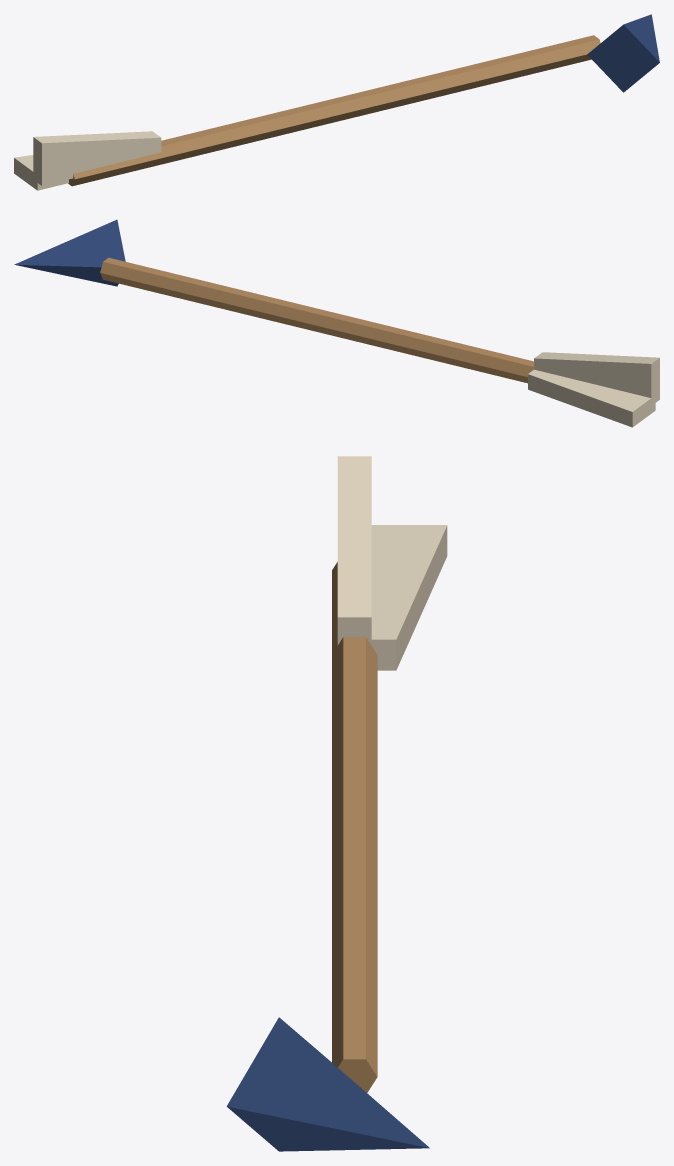
The model's file is MithrilArrowStack3.glb.
3 renders of one model, top to bottom at view 1: azimuth 30°, elevation 25°; view 2: azimuth 150°, elevation 25°; view 3: azimuth 270°, elevation 25°, orthographic. The views are drawn at different scales.
Parts seen in each view (by area): view 1: MithrilArrow_1_shaft, MithrilArrow_2_shaft, MithrilArrow_1_fletch_v, MithrilArrow_3_shaft, MithrilArrow_2_fletch_v, MithrilArrow_1_head, MithrilArrow_2_head, MithrilArrow_3_head, MithrilArrow_1_fletch_h, MithrilArrow_3_fletch_v, MithrilArrow_2_fletch_h; view 2: MithrilArrow_1_shaft, MithrilArrow_3_shaft, MithrilArrow_2_shaft, MithrilArrow_1_fletch_h, MithrilArrow_1_fletch_v, MithrilArrow_1_head, MithrilArrow_2_fletch_v, MithrilArrow_3_head, MithrilArrow_2_head, MithrilArrow_3_fletch_v; view 3: MithrilArrow_1_head, MithrilArrow_3_shaft, MithrilArrow_1_shaft, MithrilArrow_1_fletch_h, MithrilArrow_2_shaft, MithrilArrow_3_fletch_h, MithrilArrow_3_fletch_v, MithrilArrow_1_fletch_v, MithrilArrow_3_head, MithrilArrow_2_fletch_h.
Boxes of the visible parts, left/top/right/bottom form: MithrilArrow_1_shaft: left=68, top=35, right=600, bottom=185; MithrilArrow_2_shaft: left=69, top=54, right=591, bottom=185; MithrilArrow_1_fletch_v: left=33, top=131, right=161, bottom=185; MithrilArrow_3_shaft: left=72, top=90, right=368, bottom=186; MithrilArrow_2_fletch_v: left=33, top=135, right=161, bottom=185; MithrilArrow_1_head: left=587, top=14, right=659, bottom=92; MithrilArrow_2_head: left=588, top=18, right=657, bottom=91; MithrilArrow_3_head: left=624, top=15, right=659, bottom=62; MithrilArrow_1_fletch_h: left=14, top=158, right=68, bottom=190; MithrilArrow_3_fletch_v: left=34, top=131, right=142, bottom=181; MithrilArrow_2_fletch_h: left=14, top=159, right=68, bottom=189; MithrilArrow_1_shaft: left=100, top=257, right=533, bottom=382; MithrilArrow_3_shaft: left=100, top=262, right=533, bottom=368; MithrilArrow_2_shaft: left=161, top=282, right=533, bottom=383; MithrilArrow_1_fletch_h: left=528, top=369, right=655, bottom=427; MithrilArrow_1_fletch_v: left=534, top=352, right=659, bottom=402; MithrilArrow_1_head: left=15, top=219, right=124, bottom=284; MithrilArrow_2_fletch_v: left=534, top=352, right=659, bottom=404; MithrilArrow_3_head: left=19, top=220, right=125, bottom=285; MithrilArrow_2_head: left=14, top=220, right=124, bottom=286; MithrilArrow_3_fletch_v: left=537, top=352, right=659, bottom=394; MithrilArrow_1_head: left=227, top=1017, right=429, bottom=1151; MithrilArrow_3_shaft: left=332, top=562, right=377, bottom=1090; MithrilArrow_1_shaft: left=332, top=720, right=377, bottom=1092; MithrilArrow_1_fletch_h: left=369, top=525, right=447, bottom=670; MithrilArrow_2_shaft: left=332, top=637, right=377, bottom=1092; MithrilArrow_3_fletch_h: left=368, top=525, right=447, bottom=668; MithrilArrow_3_fletch_v: left=337, top=456, right=371, bottom=644; MithrilArrow_1_fletch_v: left=337, top=456, right=371, bottom=644; MithrilArrow_3_head: left=227, top=1027, right=428, bottom=1147; MithrilArrow_2_fletch_h: left=371, top=528, right=446, bottom=670.
Size of the model in its own units: 1.01 by 0.117 by 0.1548.
